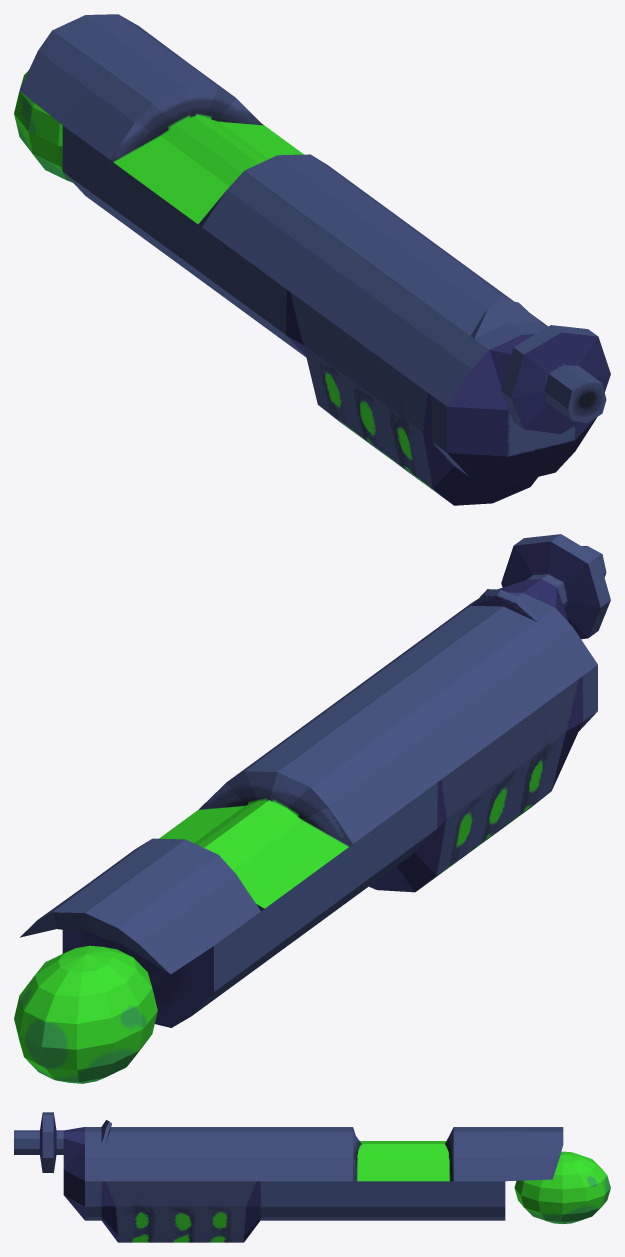
Rendered from beam-rifle.fbx.
3 renders of one model, top to bottom at view 1: azimuth 30°, elevation 25°; view 2: azimuth 150°, elevation 25°; view 3: azimuth 270°, elevation 25°, orthographic. The views are drawn at different scales.
Parts seen in each view (by area): view 1: beam rifle; view 2: beam rifle; view 3: beam rifle.
Part boxes in pixels (bbox=[...]): beam rifle: bbox=[14, 14, 610, 505]; beam rifle: bbox=[14, 534, 610, 1083]; beam rifle: bbox=[14, 1112, 610, 1242].
Size of the model in its own units: 40.28 by 56.27 by 252.
